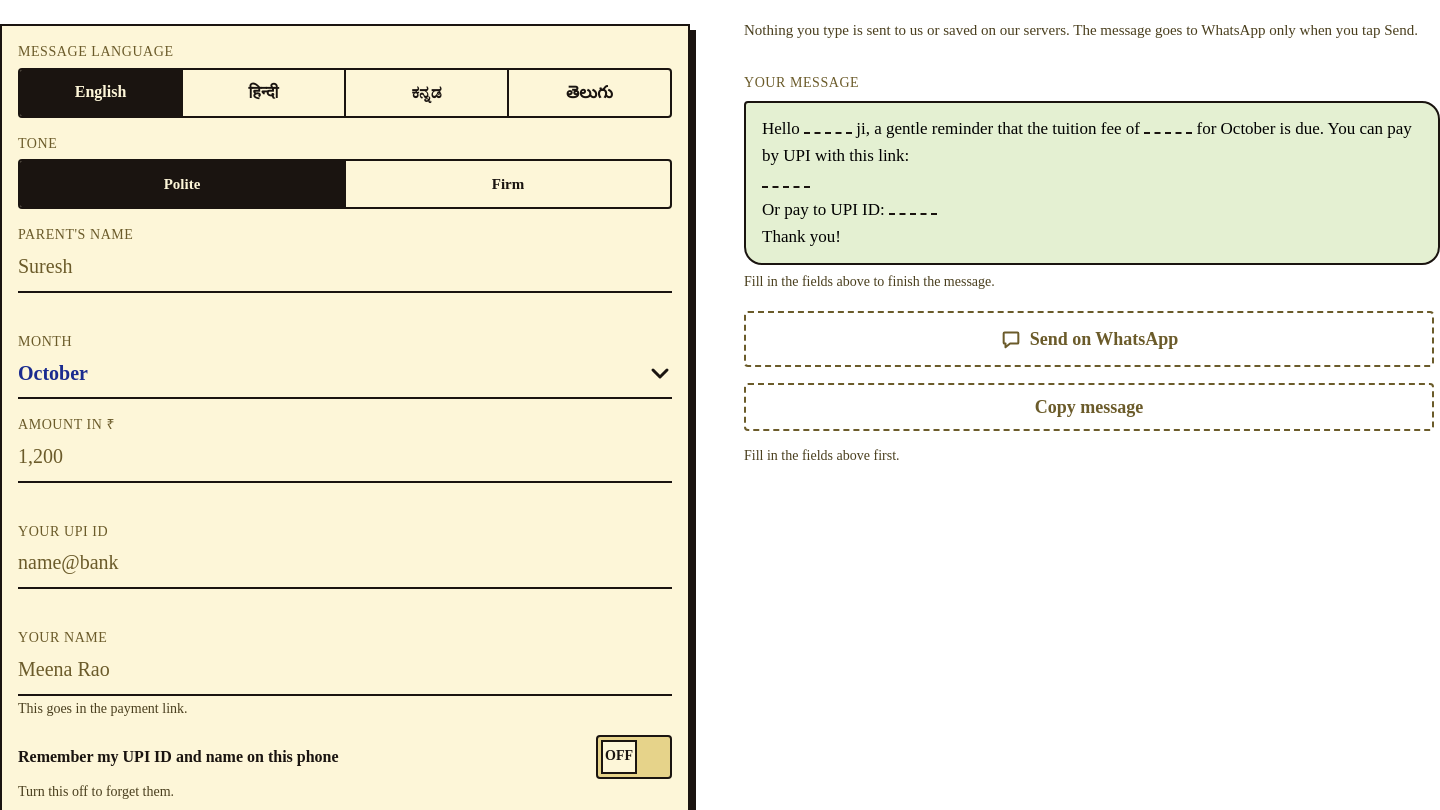
errors (criteria 12, 14, 16, 18, 19) › amount with paise: the state word beside the label, the error mark, and how to fix it
The image size is (1440, 810).
Type "1200.50" into the text box with test id "reminder-amount" at (345, 457), box 18,435 -> 672,479
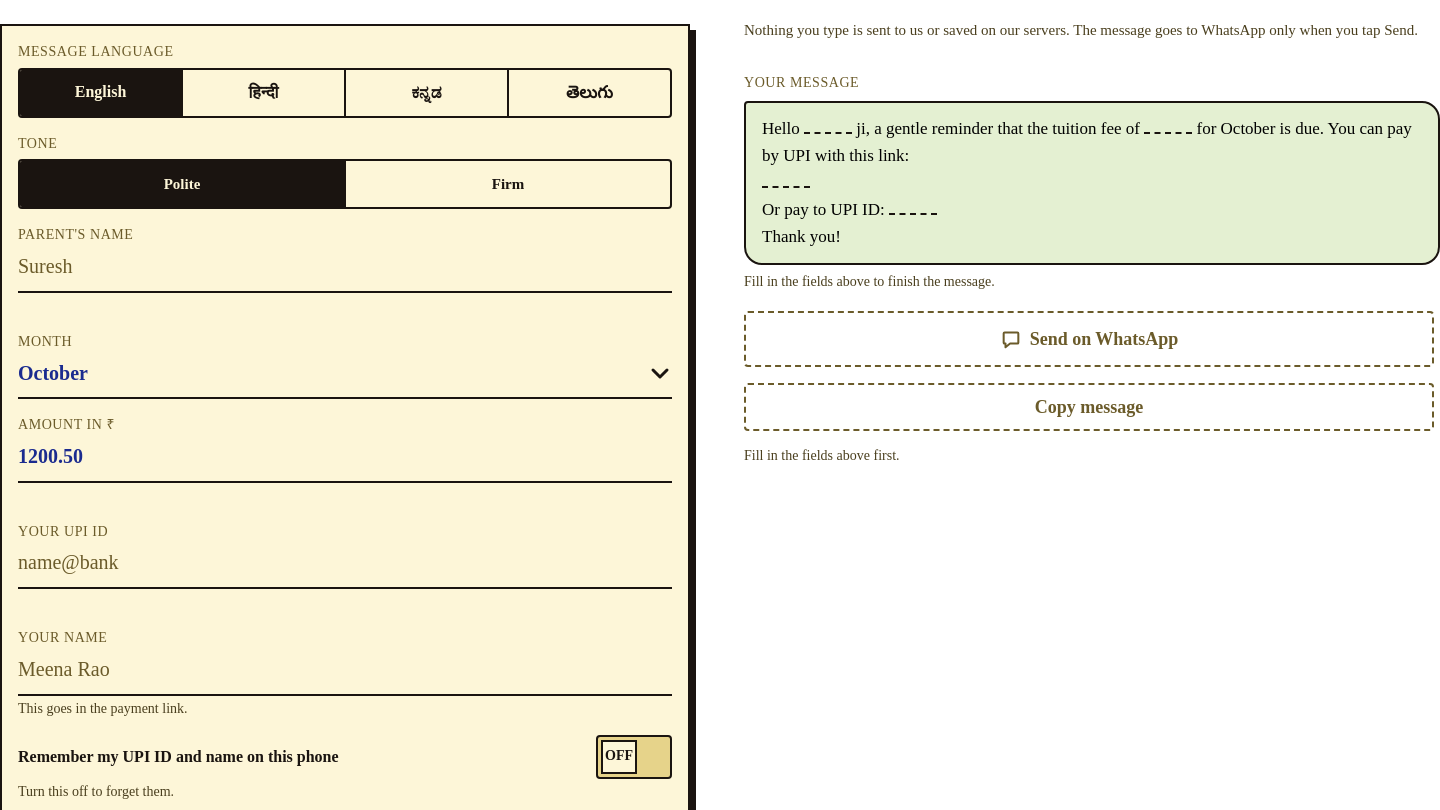
Leave the text box with test id "reminder-amount", box 18,435 -> 672,479
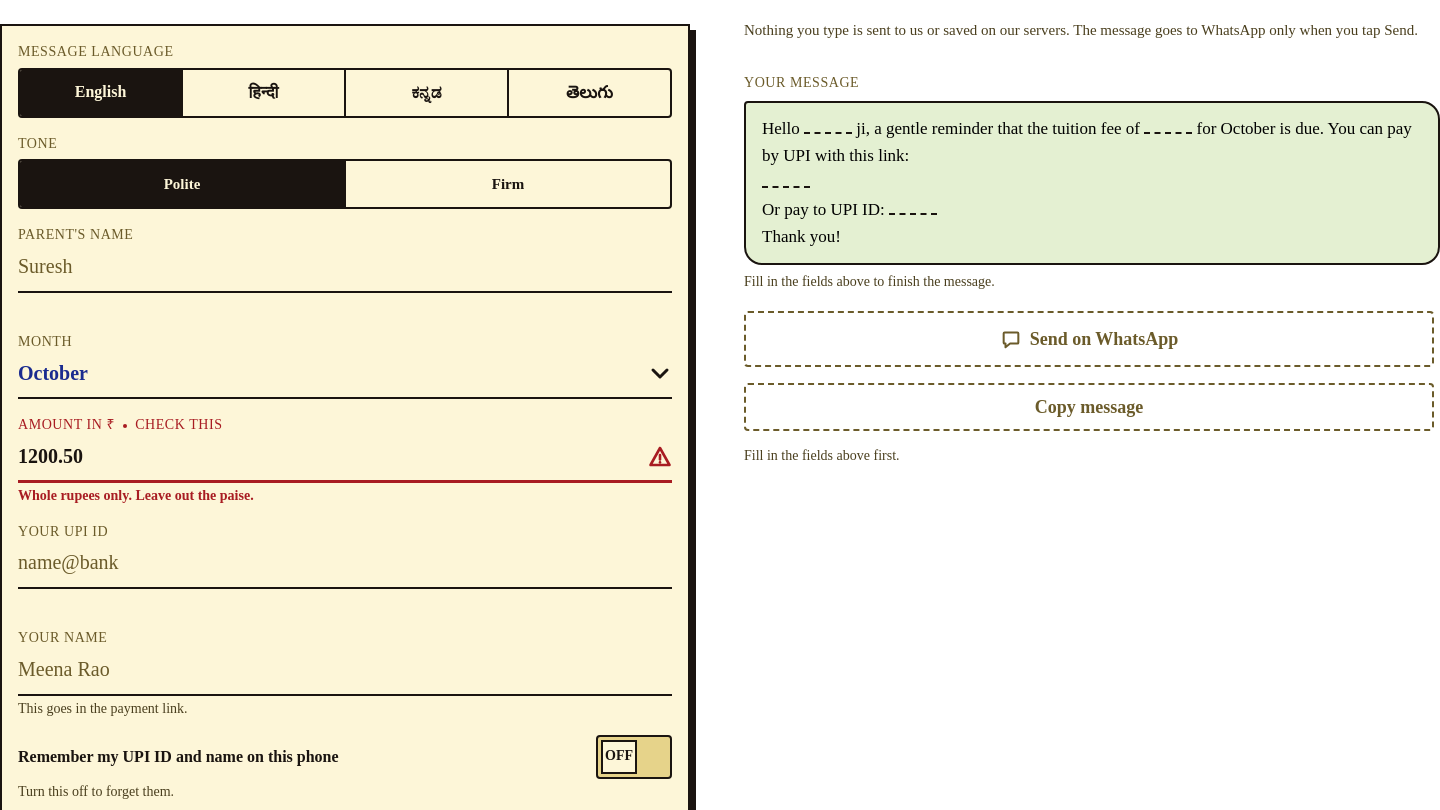
Result: the 3rd icon is shown at 648,445 -> 672,469
Result: the text "Whole rupees only. Leave out the paise." is shown at 18,488 -> 254,503
